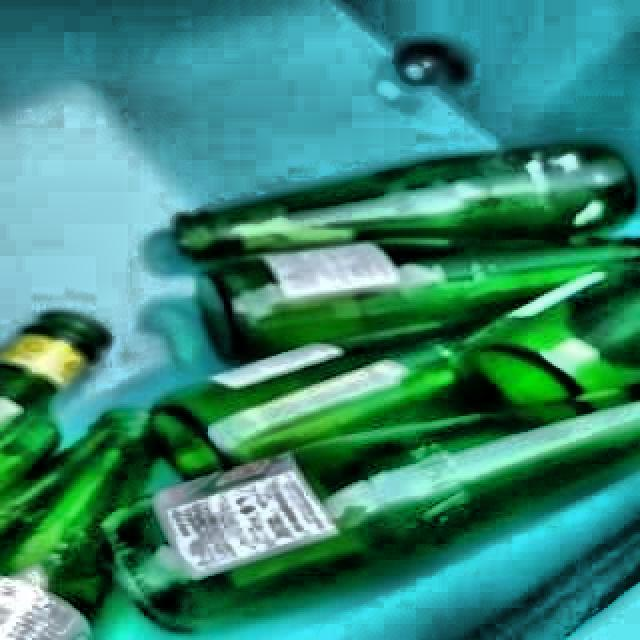glass: (0, 142, 640, 640)
